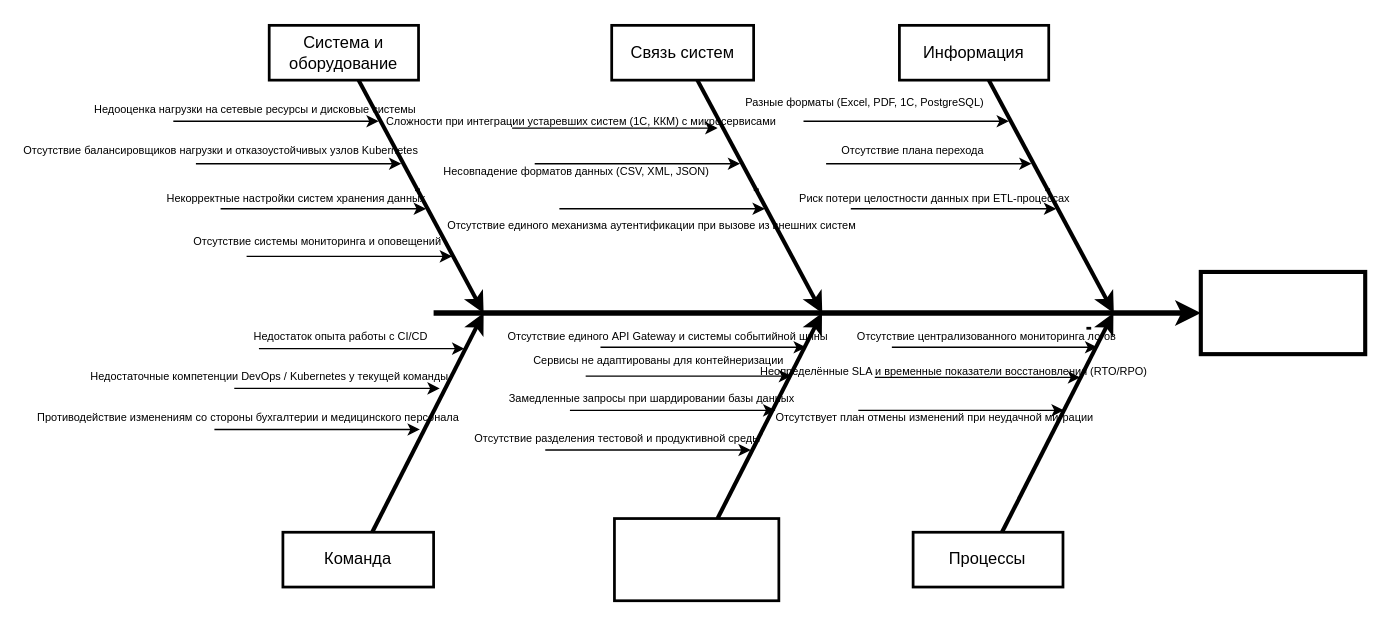
Image size: 1391x625. Some labels were removed from this diagram. The shapes that lost their labels are listed below. From the top down, each one's centre as x and y in pixels, then its label:
At (1282,312): "Падение эффективности и сбои после перехода".
At (696,558): "Программное обеспечение / архитектура".
